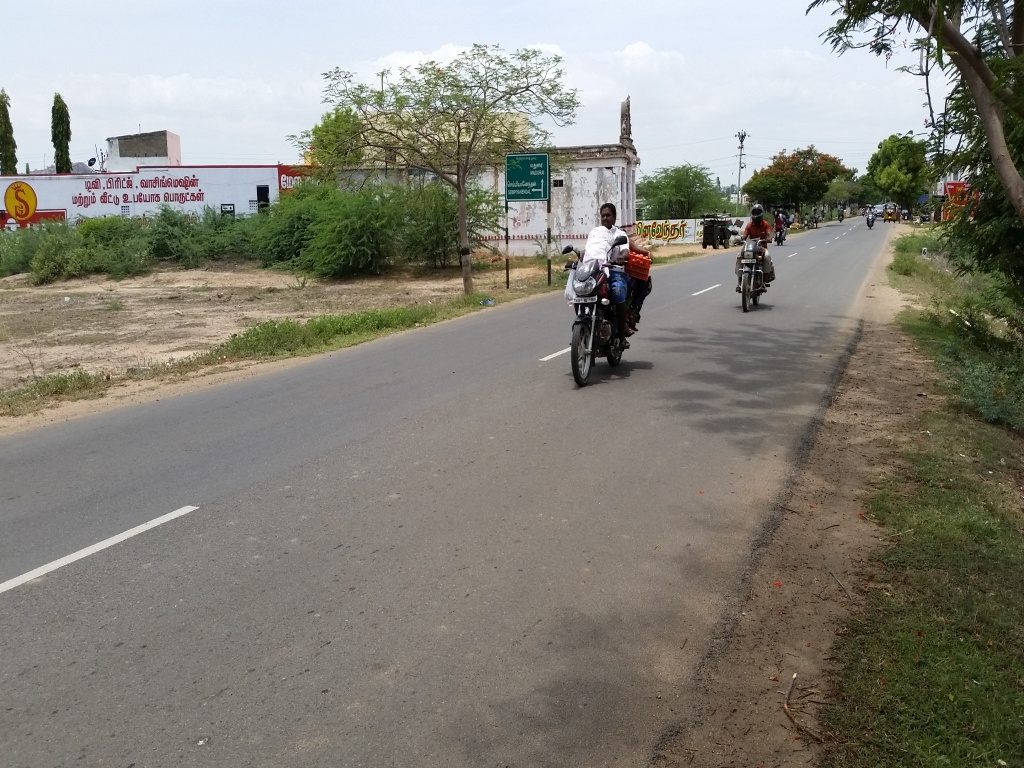biker: (538, 170, 683, 400), (719, 181, 798, 324)
helmet: (744, 198, 772, 228)
nohelmet: (592, 195, 627, 240)
